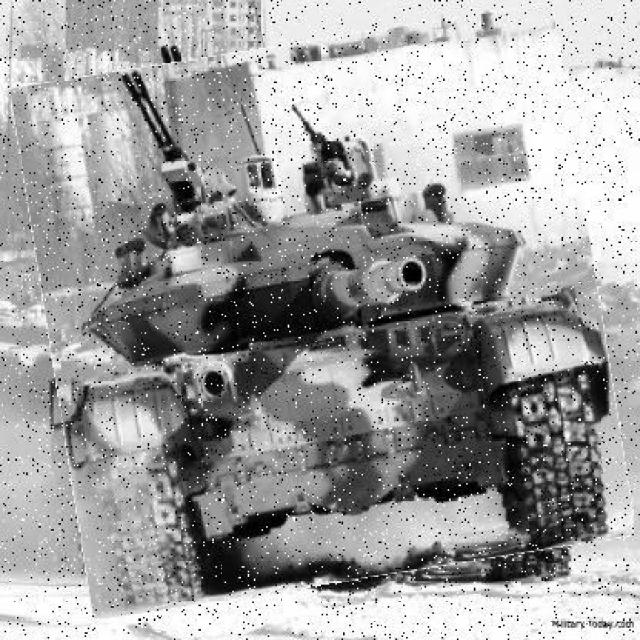Tank: (30, 24, 618, 603)
